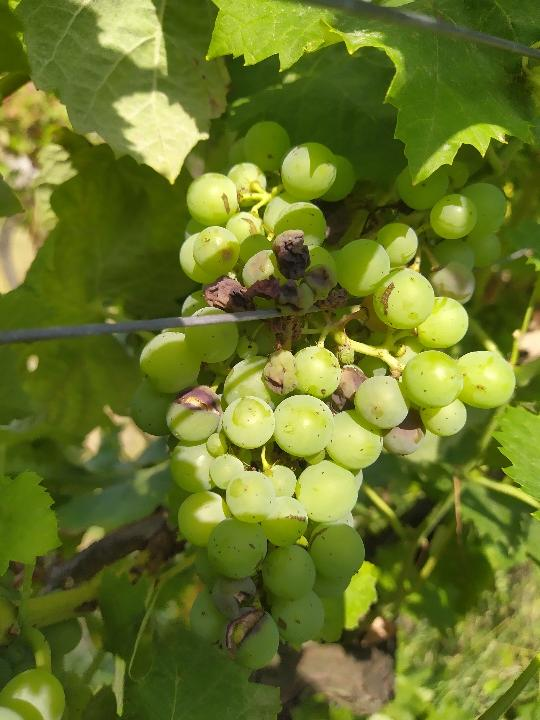grape: (129, 120, 520, 683)
